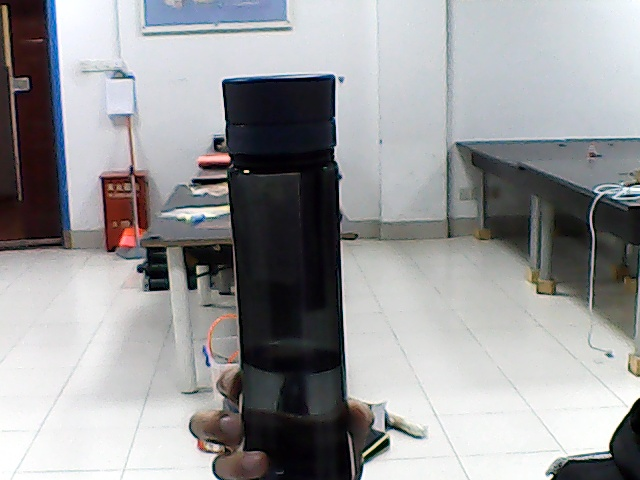cup: (243, 99, 337, 426)
